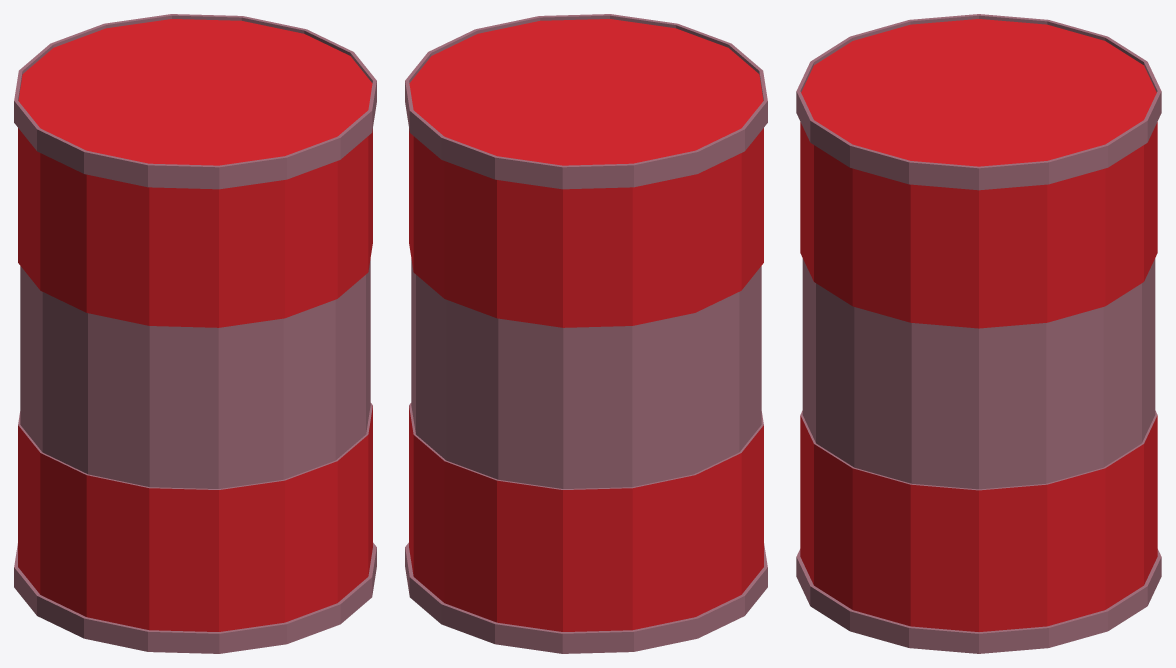
File: barrel.fbx
3 views of the same model, side by side, from view 1: azimuth 30°, elevation 25°; view 2: azimuth 150°, elevation 25°; view 3: azimuth 270°, elevation 25° (orthographic).
Parts seen in each view (by area): view 1: White; view 2: White; view 3: White.
Boxes of the visible parts, left/top/right/bottom form: White: left=14, top=14, right=376, bottom=653; White: left=405, top=14, right=767, bottom=653; White: left=796, top=14, right=1161, bottom=653.
Bounding box in the file's own units: 204 × 300 × 204.
